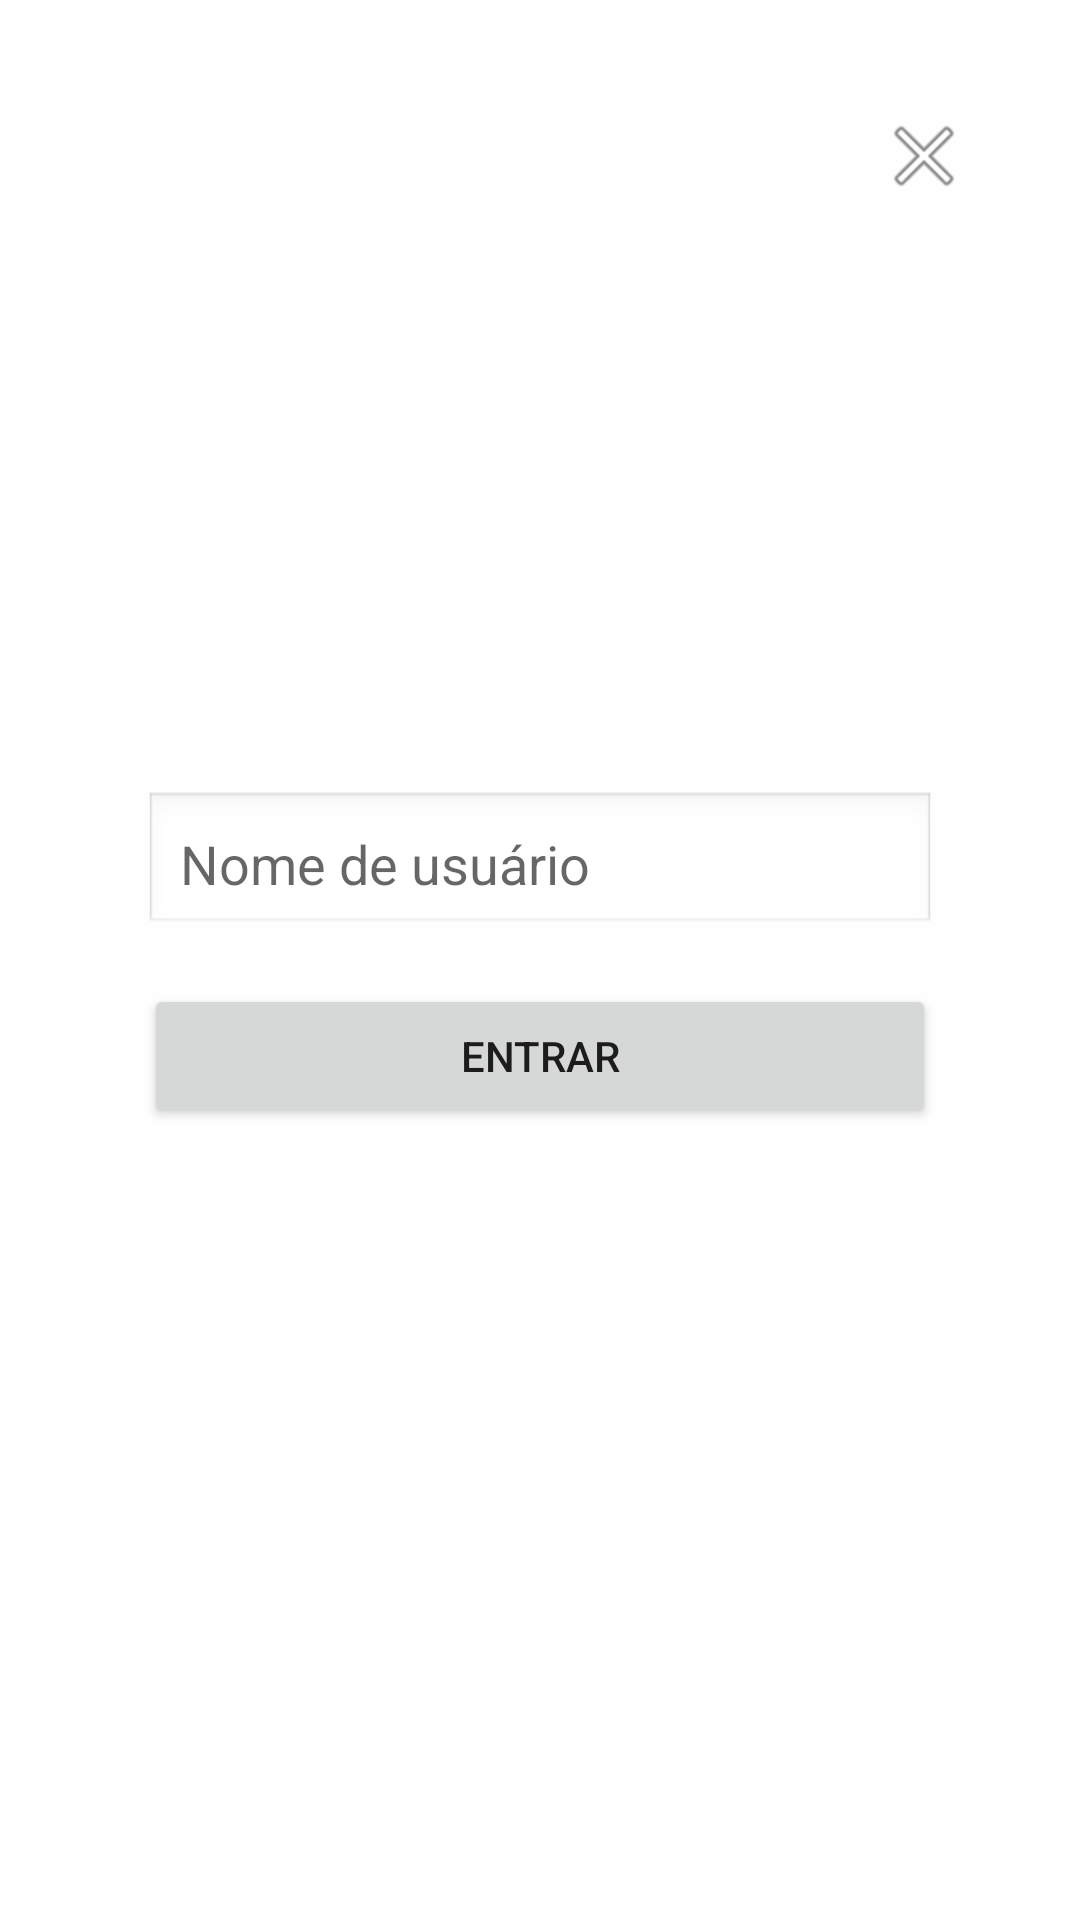

Named icons in this screenshot (1080 × 1920) and their centers, (x=x, y=y):
Fechar: (x=924, y=156)
